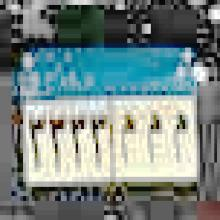3: (91, 109, 111, 173), (47, 108, 68, 167), (28, 108, 47, 167), (69, 112, 88, 167)
meem: (170, 109, 192, 165), (144, 109, 164, 163), (119, 110, 139, 164)
